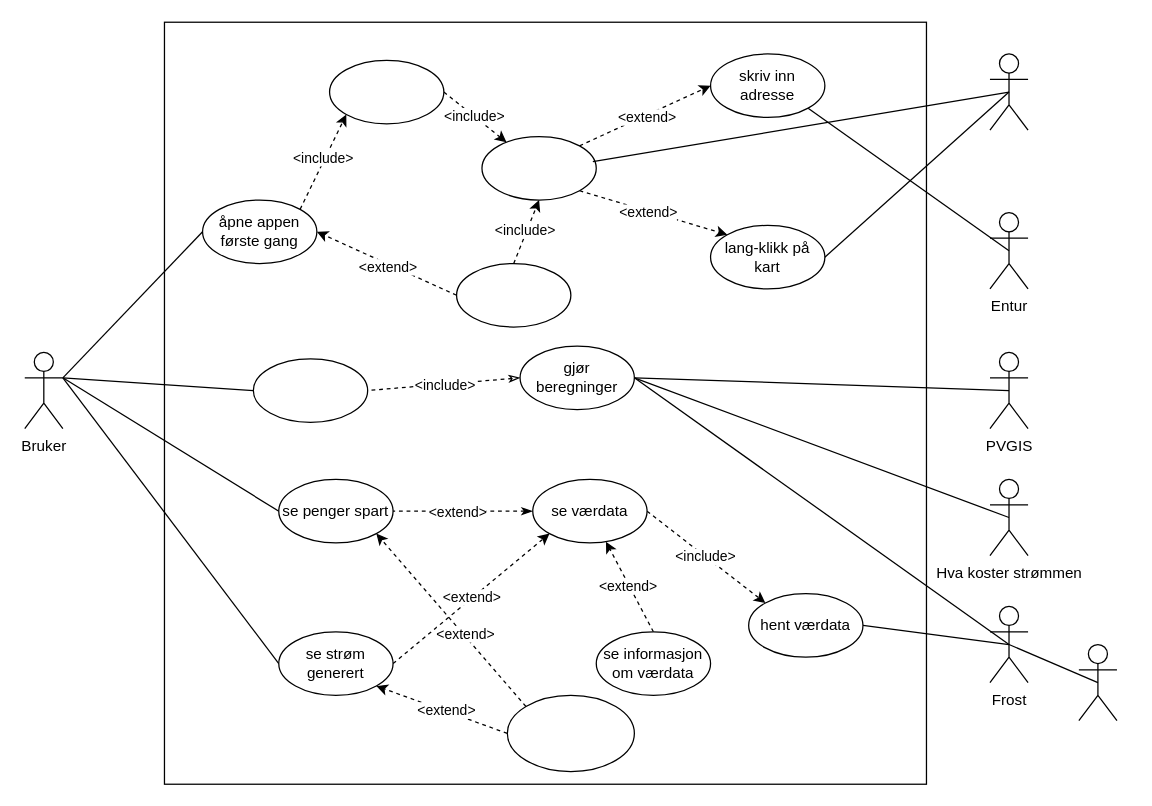
This 1152x806 diagram has some shape labels left out. Here are the shapes that lost their labels. From the top down, the box of each, then its label:
(328, 59, 444, 124): trykk på "hent adresse"
(989, 53, 1028, 130): Mapbox
(481, 135, 596, 200): vis kart
(455, 262, 571, 327): endre lokasjon
(252, 358, 368, 422): skriv inn takareal
(1078, 643, 1117, 721): Database
(506, 694, 634, 772): se informasjon om beregninger
